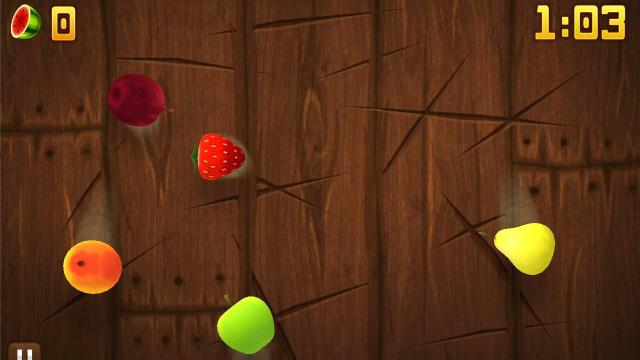fruit: (106, 74, 172, 128), (217, 294, 275, 354), (492, 222, 556, 274), (61, 239, 122, 293), (192, 133, 244, 181)
ignore: (10, 2, 42, 40)
